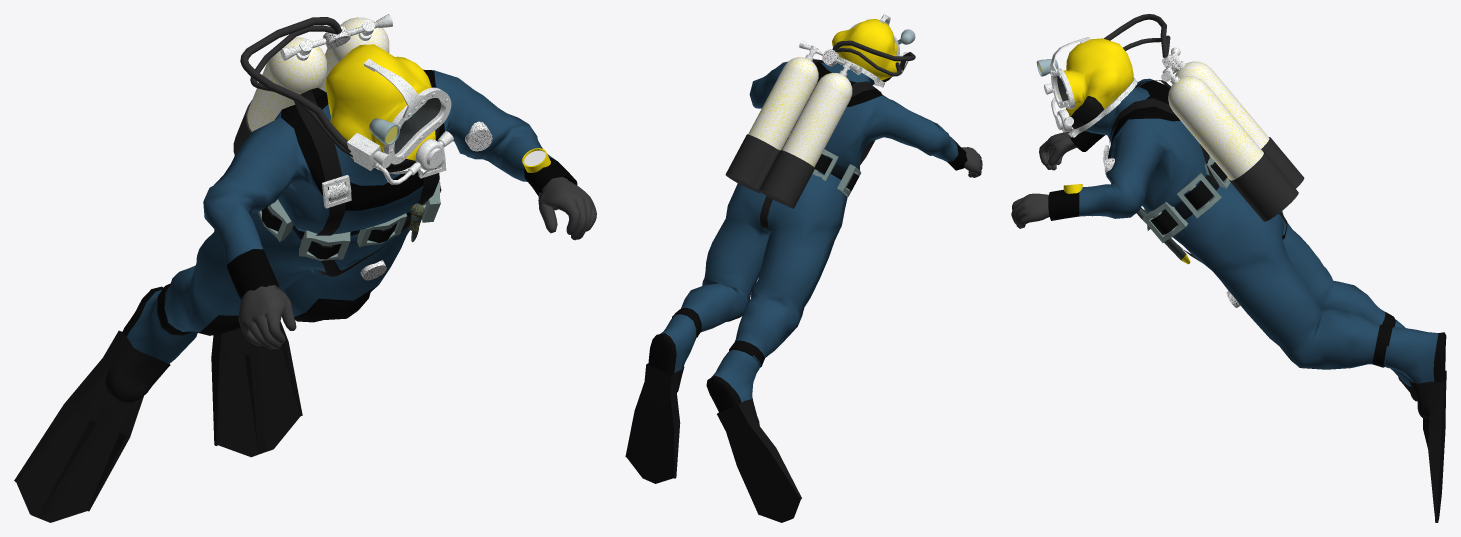
The model's file is DIVER5.dae.
3 views of the same model, side by side, from view 1: azimuth 30°, elevation 25°; view 2: azimuth 150°, elevation 25°; view 3: azimuth 270°, elevation 25° (orthographic). The views are drawn at different scales.
Visible parts, largest first — view 1: group_0 (×25); view 2: group_0 (×15); view 3: group_0 (×22).
Boxes of the visible parts, bbox=[...] form: group_0 (×25): bbox=[14, 17, 596, 522]; group_0 (×15): bbox=[625, 19, 982, 522]; group_0 (×22): bbox=[1011, 14, 1446, 522].
Bounding box in the file's own units: 627 × 994 × 1136.
